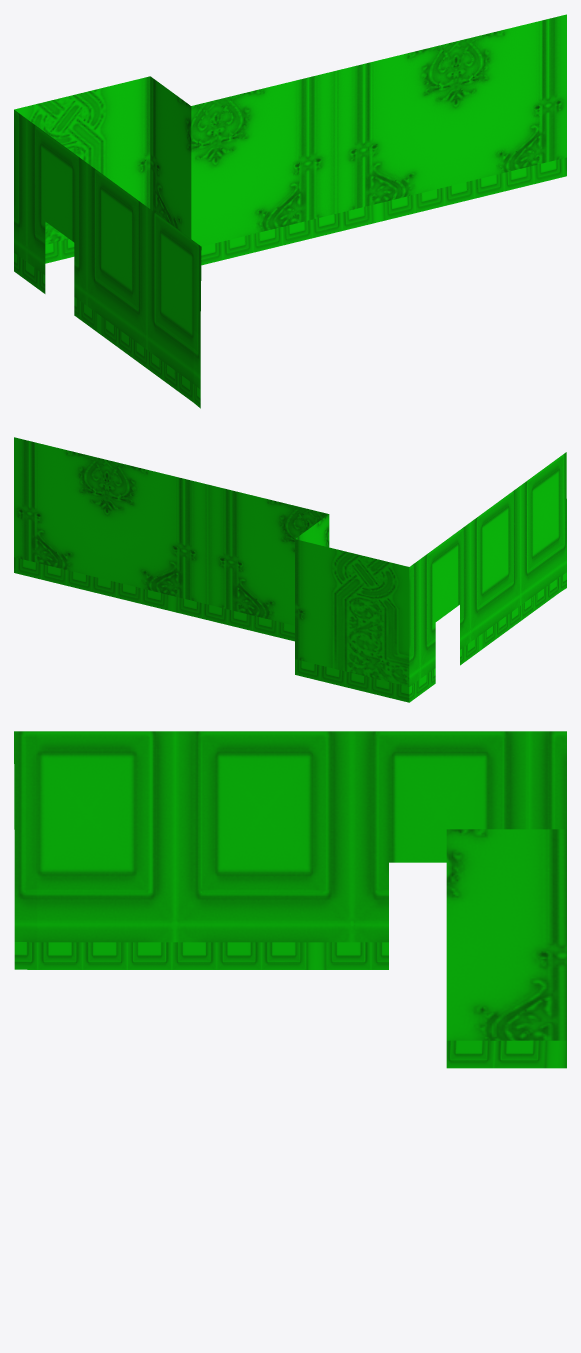
The picture shows the model from 3 angles, top to bottom: view 1: azimuth 30°, elevation 25°; view 2: azimuth 150°, elevation 25°; view 3: azimuth 270°, elevation 25°; orthographic projection. The views are drawn at different scales.
Parts seen in each view (by area): view 1: 복도벽 5; view 2: 복도벽 5; view 3: 복도벽 5.
Boxes of the visible parts, box(x1,y1,x2,y2) form: 복도벽 5: box(14, 14, 566, 408); 복도벽 5: box(14, 437, 566, 702); 복도벽 5: box(14, 731, 566, 1068).
Size of the model in its own units: 656 by 198 by 416.
